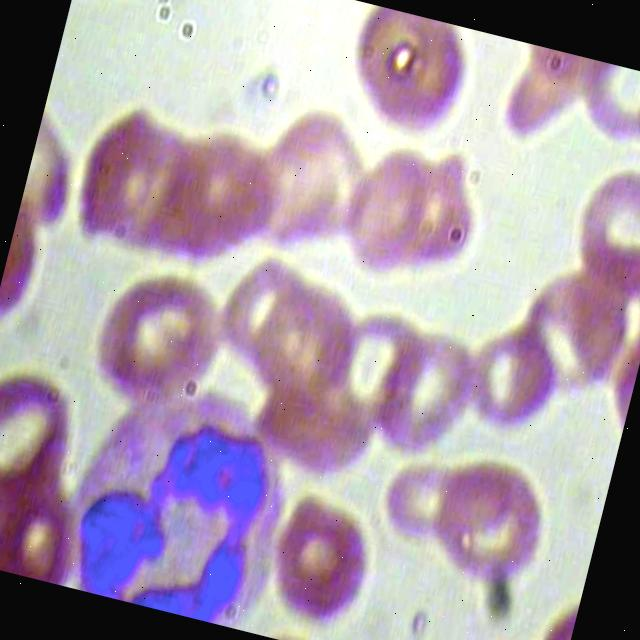WBC: (53, 363, 309, 633)
